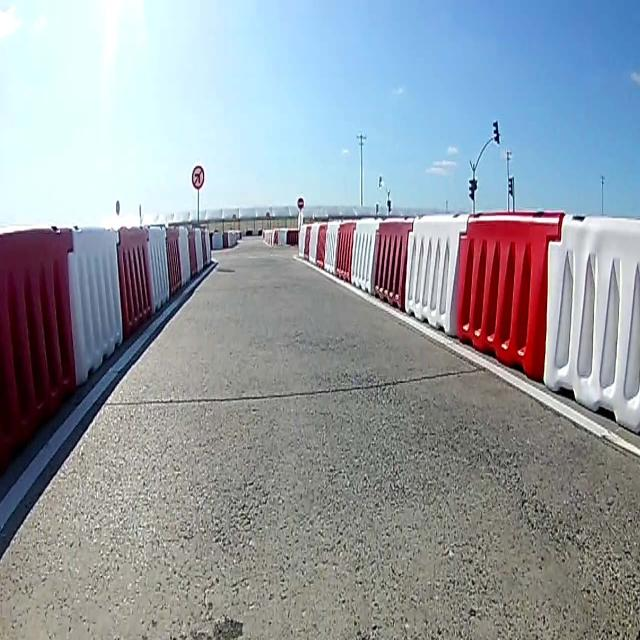girisyok: (297, 197, 305, 210)
soladonulmez: (191, 166, 205, 190)
